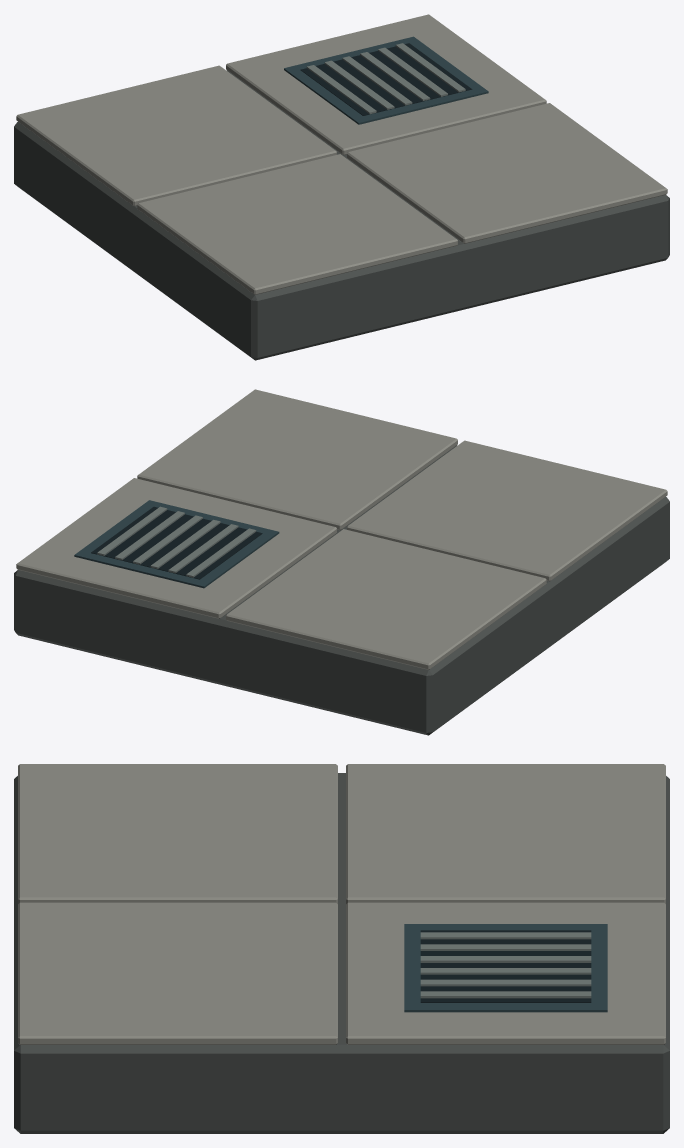
File: floor-cell-drain.glb
3 views of the same model, one above another, from view 1: azimuth 30°, elevation 25°; view 2: azimuth 150°, elevation 25°; view 3: azimuth 270°, elevation 25° (orthographic). The views are drawn at different scales.
Parts seen in each view (by area): view 1: floor-cell-drain__floor-cell-drain__concrete, floor-cell-drain__floor-cell-drain__concrete-dark, floor-cell-drain__floor-cell-drain__rubber, floor-cell-drain__floor-cell-drain__hardware, floor-cell-drain__floor-cell-drain__steel; view 2: floor-cell-drain__floor-cell-drain__concrete, floor-cell-drain__floor-cell-drain__concrete-dark, floor-cell-drain__floor-cell-drain__rubber, floor-cell-drain__floor-cell-drain__hardware, floor-cell-drain__floor-cell-drain__steel; view 3: floor-cell-drain__floor-cell-drain__concrete, floor-cell-drain__floor-cell-drain__concrete-dark, floor-cell-drain__floor-cell-drain__hardware, floor-cell-drain__floor-cell-drain__rubber, floor-cell-drain__floor-cell-drain__steel.
Boxes of the visible parts, x1,y1,x2,y2 form: floor-cell-drain__floor-cell-drain__concrete: [16, 14, 667, 294]; floor-cell-drain__floor-cell-drain__concrete-dark: [14, 70, 669, 360]; floor-cell-drain__floor-cell-drain__rubber: [300, 43, 472, 115]; floor-cell-drain__floor-cell-drain__hardware: [306, 43, 465, 114]; floor-cell-drain__floor-cell-drain__steel: [284, 36, 488, 124]; floor-cell-drain__floor-cell-drain__concrete: [16, 389, 667, 669]; floor-cell-drain__floor-cell-drain__concrete-dark: [14, 445, 669, 735]; floor-cell-drain__floor-cell-drain__rubber: [91, 506, 262, 579]; floor-cell-drain__floor-cell-drain__hardware: [97, 506, 256, 577]; floor-cell-drain__floor-cell-drain__steel: [74, 500, 279, 588]; floor-cell-drain__floor-cell-drain__concrete: [18, 764, 665, 1044]; floor-cell-drain__floor-cell-drain__concrete-dark: [14, 773, 669, 1133]; floor-cell-drain__floor-cell-drain__hardware: [420, 932, 591, 998]; floor-cell-drain__floor-cell-drain__rubber: [420, 930, 591, 1002]; floor-cell-drain__floor-cell-drain__steel: [404, 924, 607, 1012].
Bounding box in the file's own units: 2 × 0.347 × 2.
